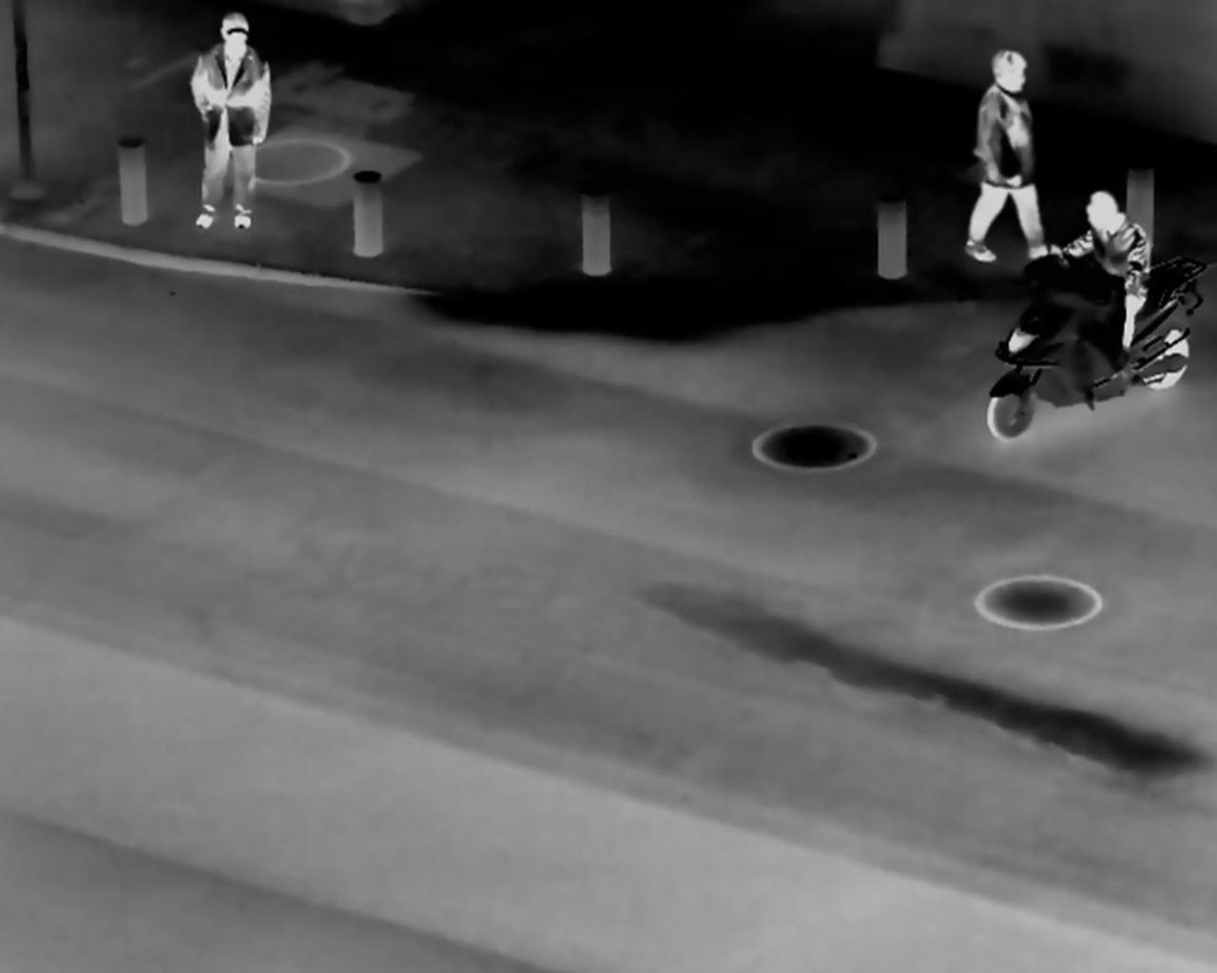person: (182, 8, 278, 238), (964, 46, 1061, 269), (1072, 185, 1157, 358)
